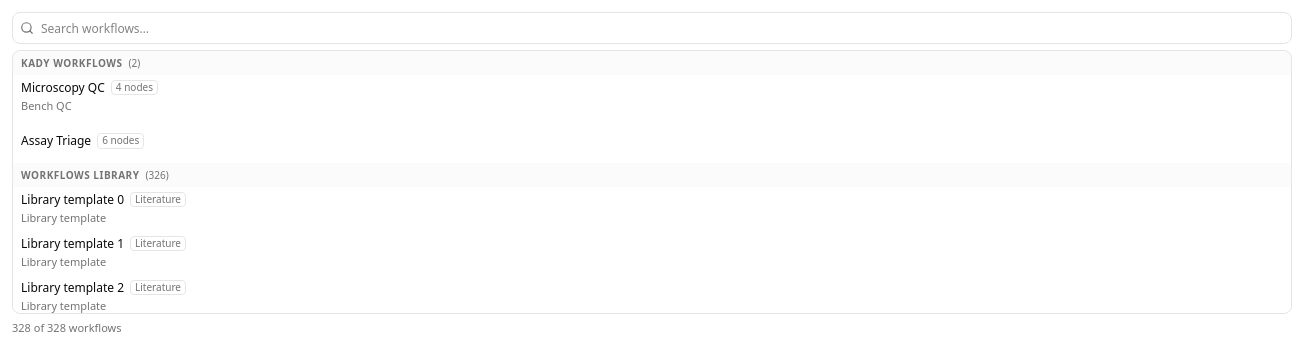
Test: SourcePicker › narrows the list as the author types and reports the visible count
Type "uniquely findable" into the search field named "Search workflow sources". click: (652, 28)
box: [12, 12, 1292, 44]
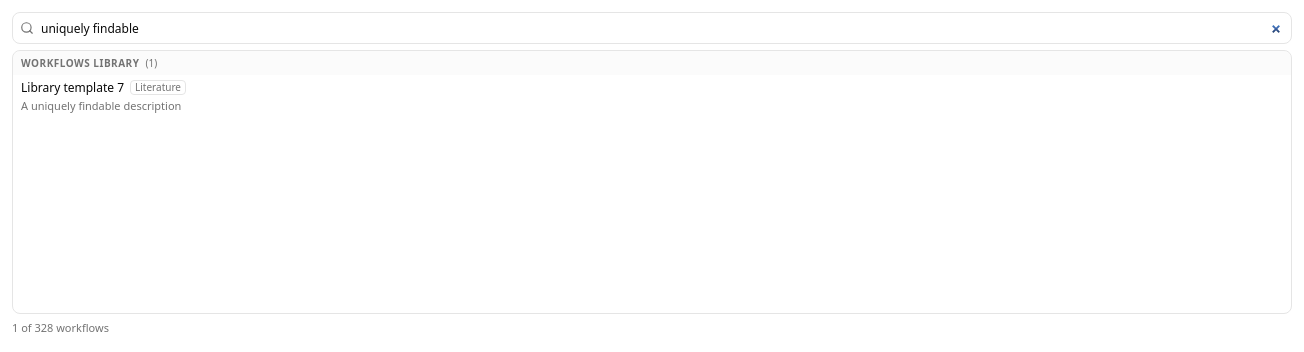
Expected: the text with test id "source-picker-count" reads "1 of 328 workflows", [12, 320, 109, 335]
Expected: the option "Library template 7" is shown, [13, 75, 1291, 119]
